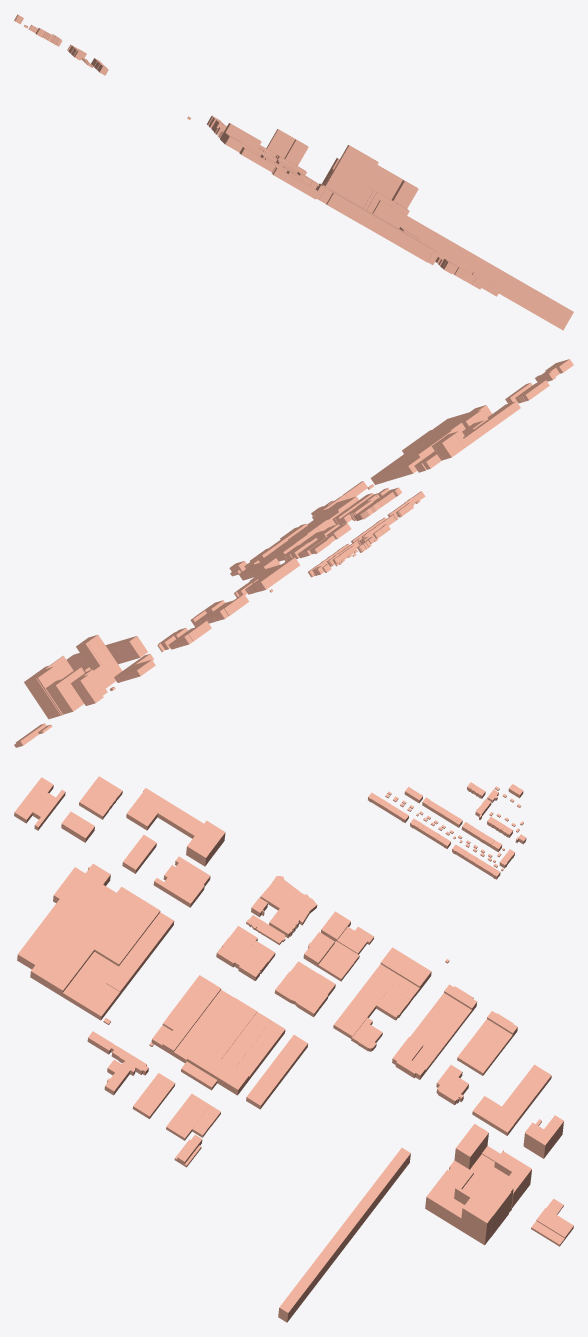
3 renders of one model, top to bottom at view 1: azimuth 30°, elevation 25°; view 2: azimuth 150°, elevation 25°; view 3: azimuth 270°, elevation 25°, orthographic. The views are drawn at different scales.
Bounding box in the file's own units: 601 × 456 × 664.
